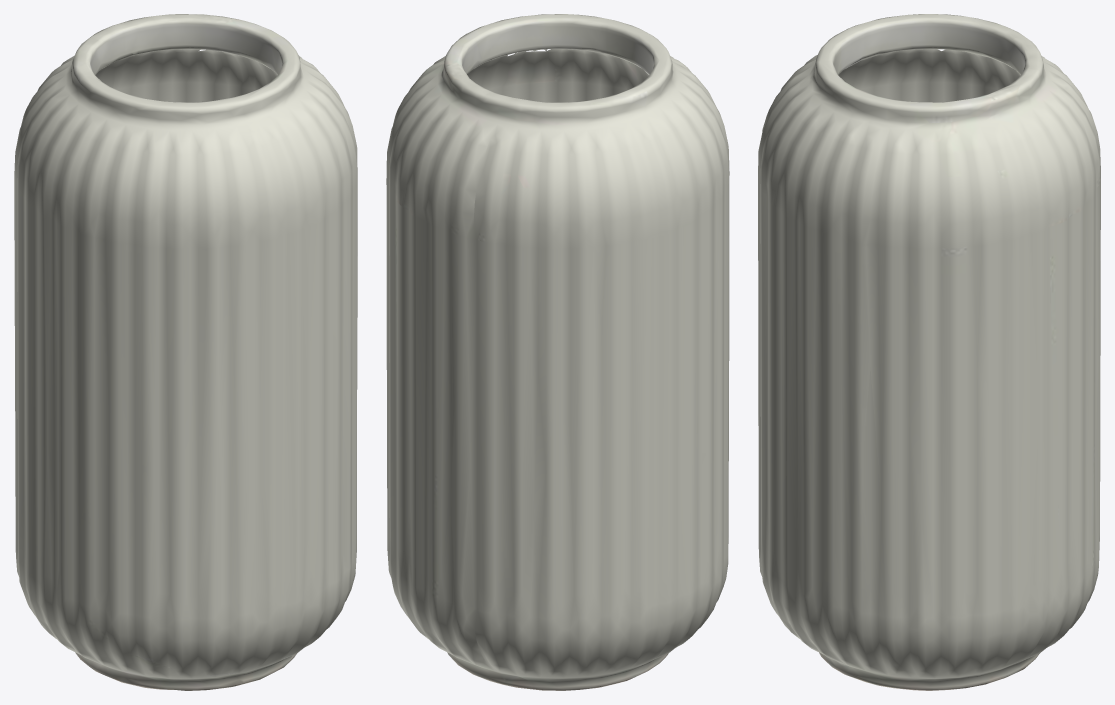
File: stilren_wazon_10592365.glb
3 renders of one model, left to right at view 1: azimuth 30°, elevation 25°; view 2: azimuth 150°, elevation 25°; view 3: azimuth 270°, elevation 25°, orthographic.
Parts seen in each view (by area): view 1: stilren_wazon_10592365; view 2: stilren_wazon_10592365; view 3: stilren_wazon_10592365.
Boxes of the visible parts, bbox=[...] form: stilren_wazon_10592365: bbox=[14, 14, 357, 690]; stilren_wazon_10592365: bbox=[386, 14, 729, 690]; stilren_wazon_10592365: bbox=[758, 14, 1100, 690].
Bounding box in the file's own units: 0.0647 × 0.1215 × 0.0647.
1 material, 1 textured.
